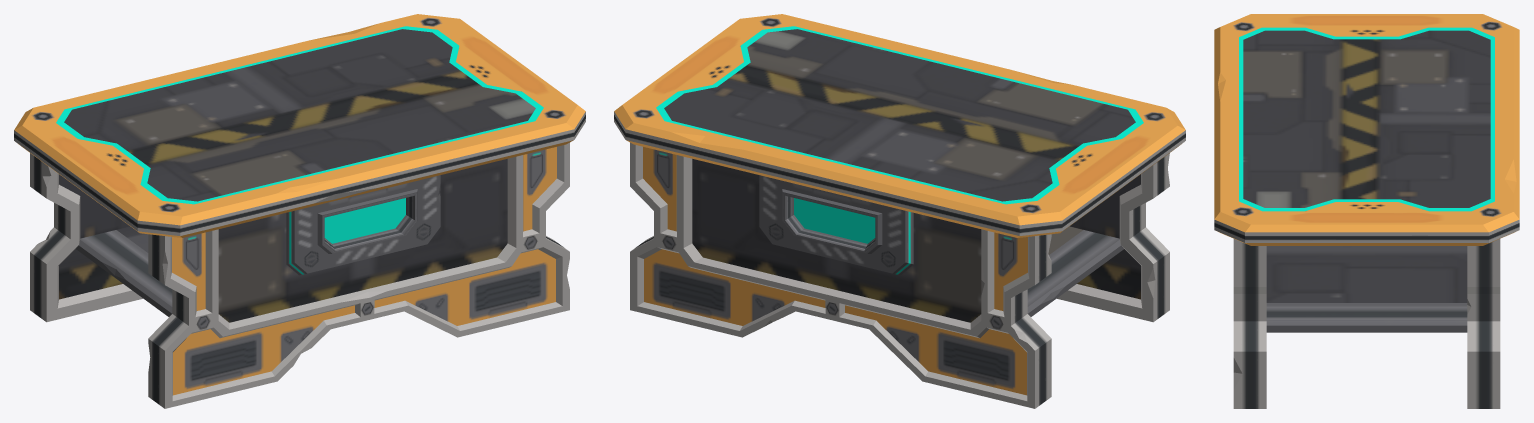
The model's file is SM_Prop_Work_Bench_01.fbx.
The picture shows the model from 3 angles, left to right: view 1: azimuth 30°, elevation 25°; view 2: azimuth 150°, elevation 25°; view 3: azimuth 270°, elevation 25°; orthographic projection.
Parts seen in each view (by area): view 1: SM_Prop_Work_Bench_01; view 2: SM_Prop_Work_Bench_01; view 3: SM_Prop_Work_Bench_01.
Boxes of the visible parts, x1,y1,x2,y2 form: SM_Prop_Work_Bench_01: [14, 14, 585, 408]; SM_Prop_Work_Bench_01: [614, 14, 1185, 408]; SM_Prop_Work_Bench_01: [1214, 14, 1519, 408].
Bounding box in the file's own units: 212 × 88.09 × 127.
